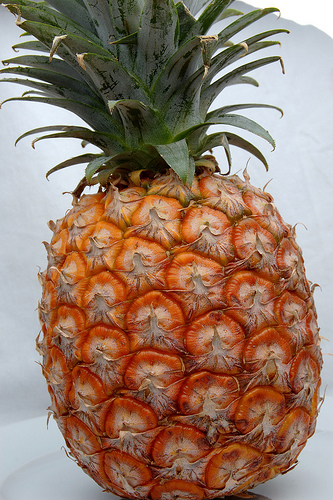pineapple: (1, 0, 326, 498)
